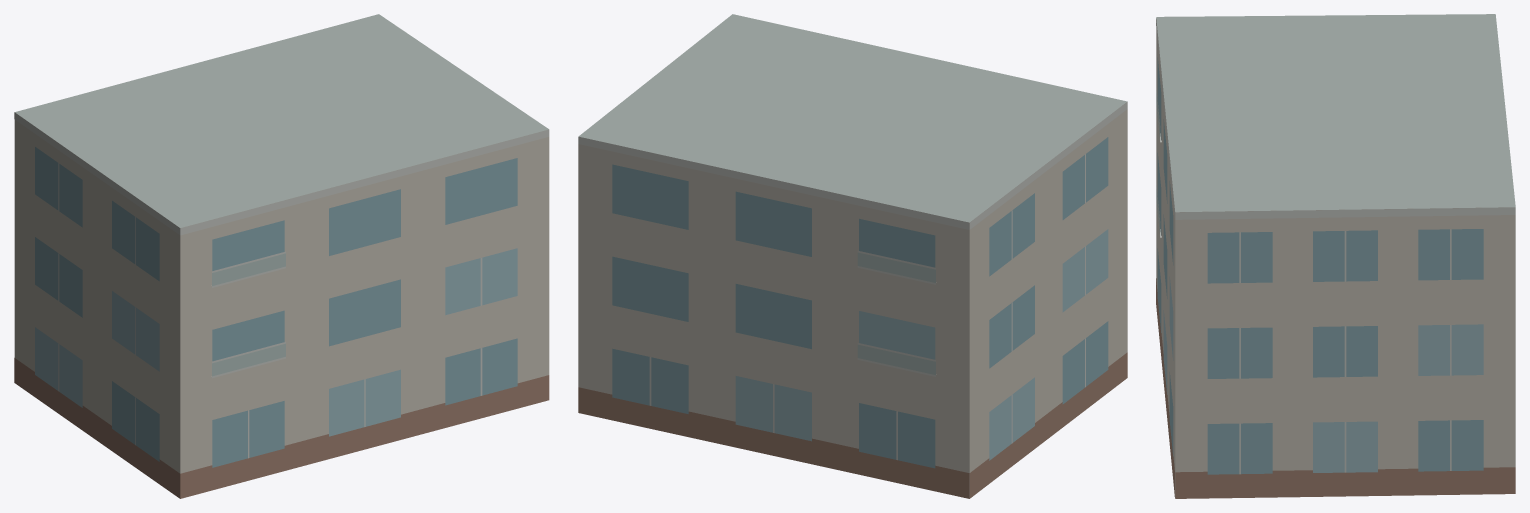
File: survey-upis-32549353.glb
3 renders of one model, left to right at view 1: azimuth 30°, elevation 25°; view 2: azimuth 150°, elevation 25°; view 3: azimuth 270°, elevation 25°, orthographic. The views are drawn at different scales.
Visible parts, largest first — view 1: survey-upis-32549353.tmp; view 2: survey-upis-32549353.tmp; view 3: survey-upis-32549353.tmp.
Part boxes in pixels (x1,y1,x2,y2): survey-upis-32549353.tmp: (14,14,549,498); survey-upis-32549353.tmp: (578,14,1127,498); survey-upis-32549353.tmp: (1156,14,1515,498).
Size of the model in its own units: 13.4 by 9.03 by 10.28.
